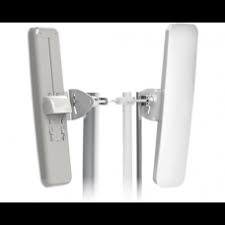sa: (20, 24, 84, 177), (152, 25, 203, 199)
